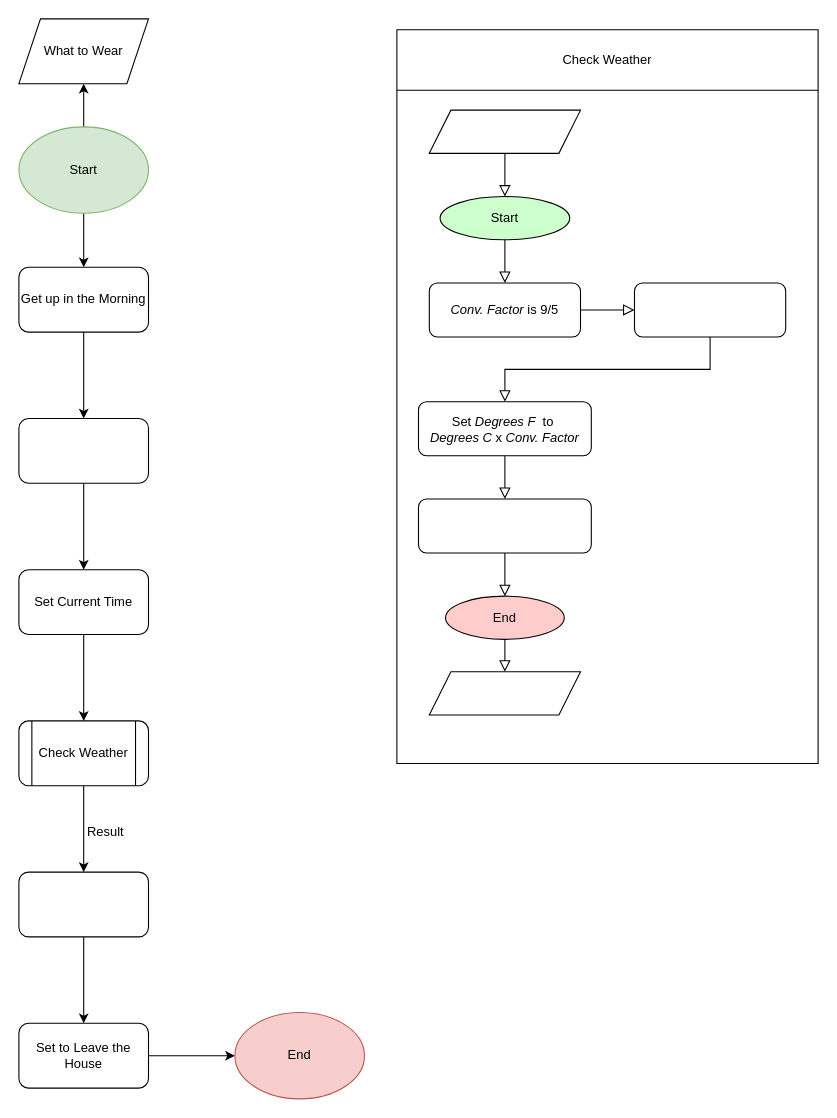
Some shapes in this 837 by 1118 pixel diagram are drawn without their labels. Here are the shapes that lost their labels. From the top down, the box of each, then its label:
(428, 109, 580, 153): Degrees C
(633, 282, 786, 337): Freezing Offset is 32
(18, 417, 148, 483): Set Today's Date
(417, 498, 591, 553): Add Freezing Offset to Degrees F
(428, 671, 580, 715): Degrees F
(18, 871, 148, 937): Set to What to Wear
